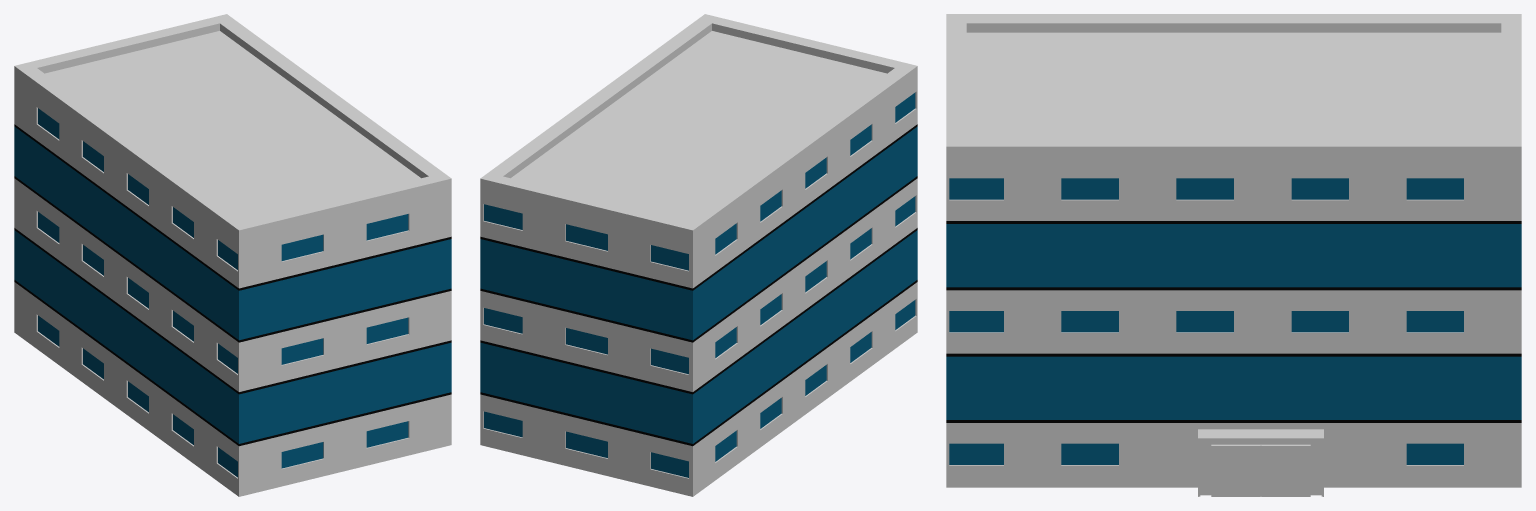
Rendered from Building_01.fbx.
3 renders of one model, left to right at view 1: azimuth 30°, elevation 25°; view 2: azimuth 150°, elevation 25°; view 3: azimuth 270°, elevation 25°, orthographic. The views are drawn at different scales.
Parts seen in each view (by area): view 1: Cube.002; view 2: Cube.002; view 3: Cube.002.
Part boxes in pixels (x1,y1,x2,y2): Cube.002: (14,14,451,496); Cube.002: (480,14,917,496); Cube.002: (946,14,1521,496).
Bounding box in the file's own units: 2667 × 2996 × 4577.
